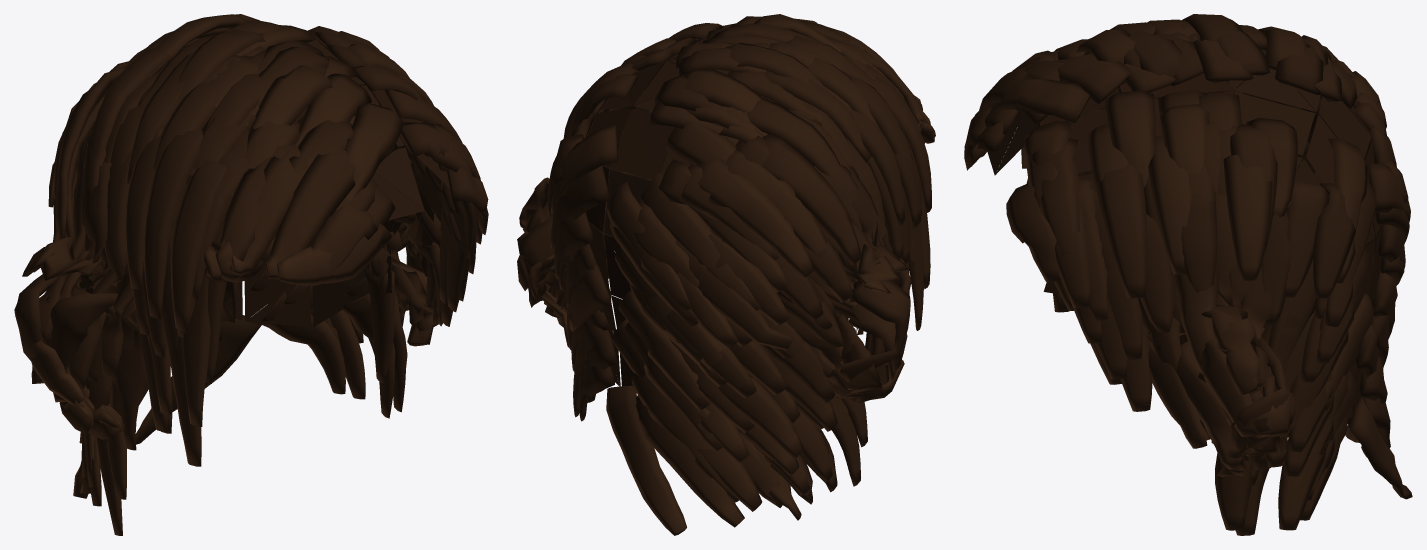
Rendered from kopf.haar.scheitel.glb.
3 renders of one model, left to right at view 1: azimuth 30°, elevation 25°; view 2: azimuth 150°, elevation 25°; view 3: azimuth 270°, elevation 25°, orthographic. The views are drawn at different scales.
Parts seen in each view (by area): view 1: haar; view 2: haar; view 3: haar.
Part boxes in pixels (box(x1,y1,x2,y2)): haar: box(14, 14, 488, 535); haar: box(517, 14, 935, 535); haar: box(964, 14, 1412, 535).
Size of the model in its own units: 0.2666 by 0.2783 by 0.2354.
